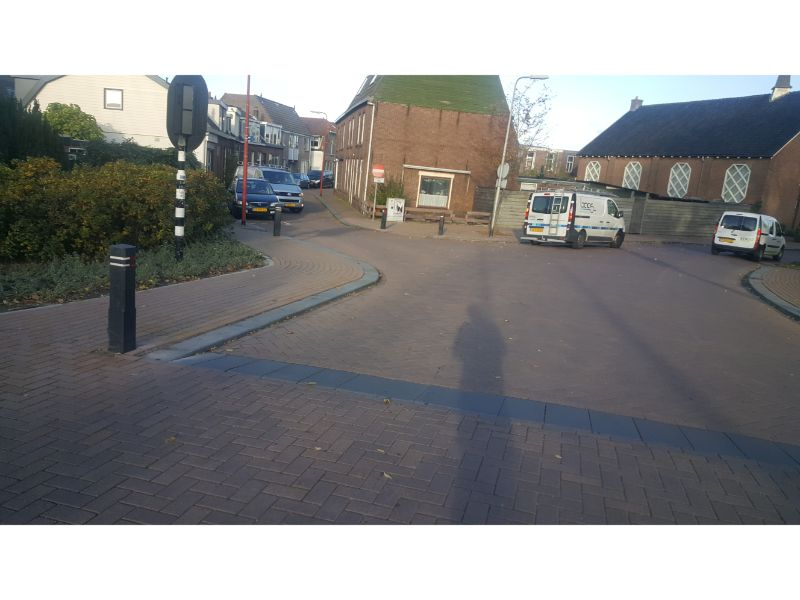kenteken: (528, 225, 543, 233), (716, 237, 733, 243), (252, 207, 267, 212)
